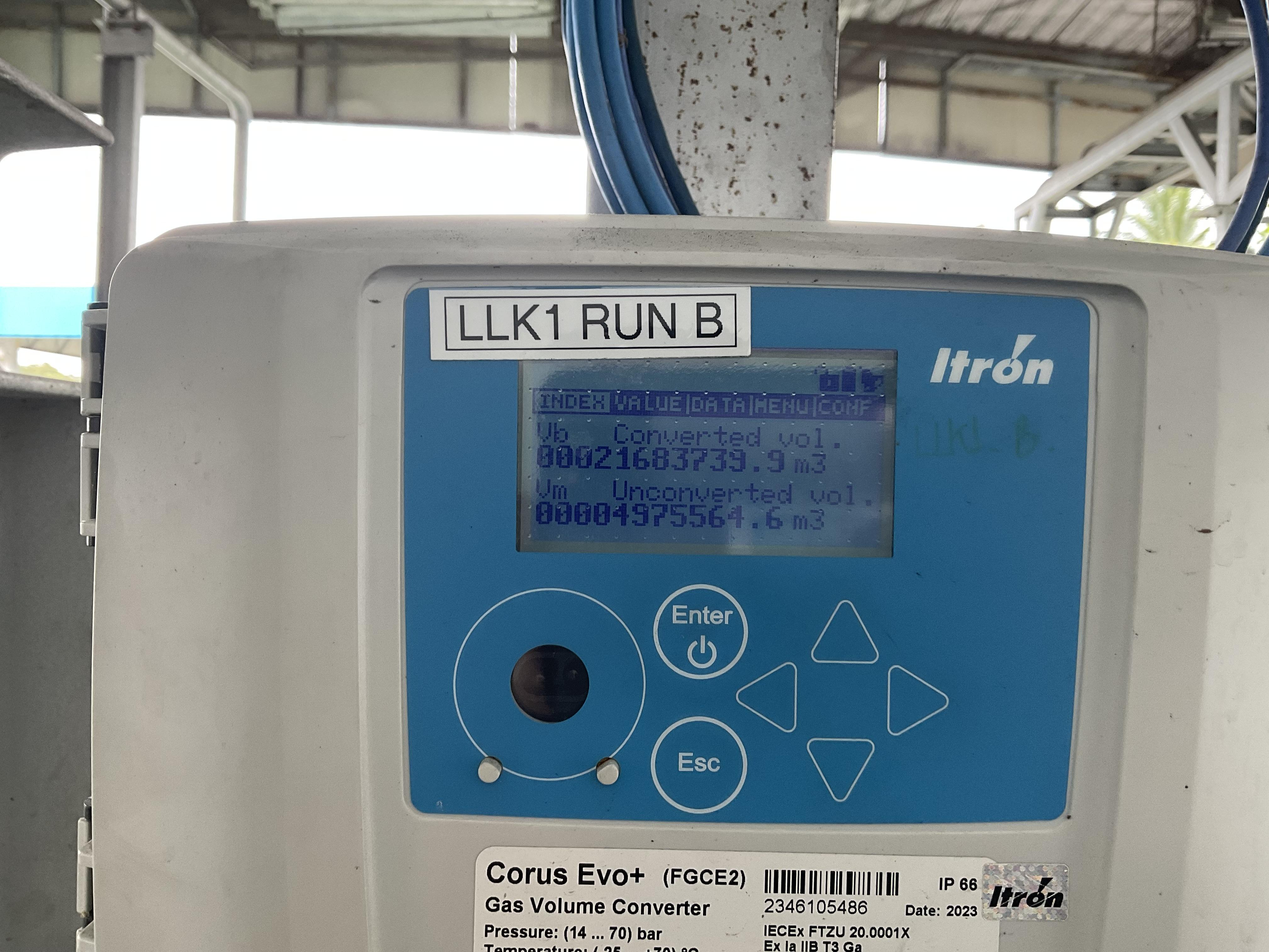digital_screen: (516, 345, 899, 557)
